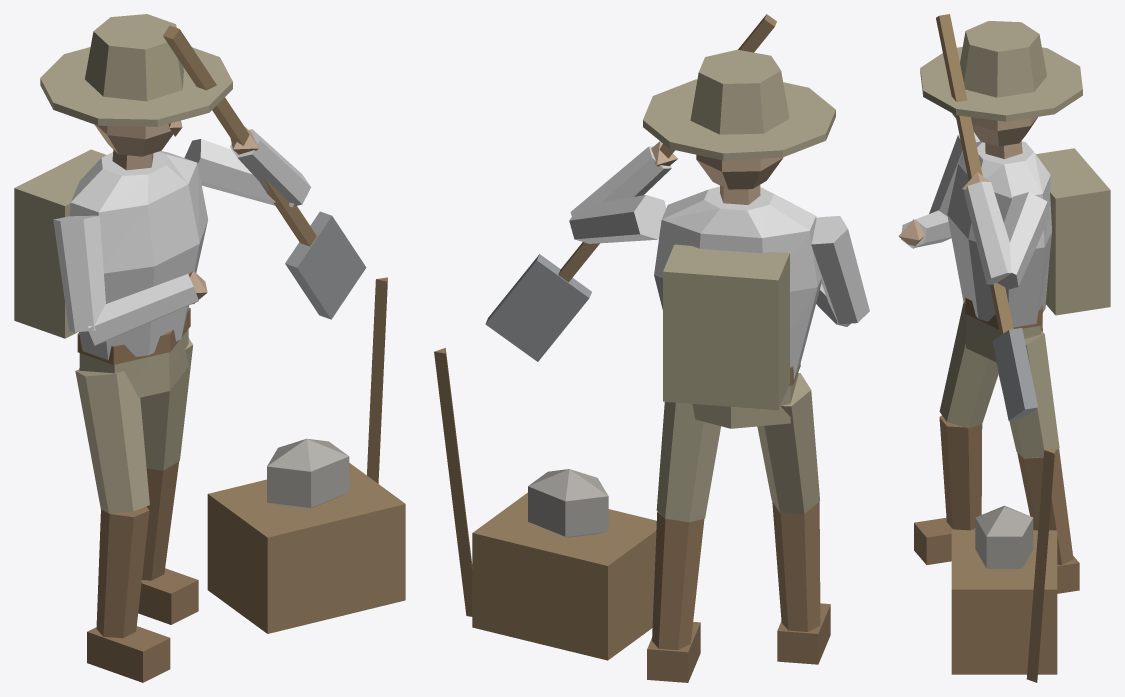
File: archaeologist.glb
3 views of the same model, side by side, from view 1: azimuth 30°, elevation 25°; view 2: azimuth 150°, elevation 25°; view 3: azimuth 270°, elevation 25° (orthographic). The views are drawn at different scales.
Visible parts, largest first — view 1: LOD0; view 2: LOD0; view 3: LOD0.
Part boxes in pixels (x1,y1,x2,y2): LOD0: [14, 14, 405, 682]; LOD0: [434, 14, 869, 682]; LOD0: [898, 14, 1110, 682].
Size of what is drawn, in the model's own units: 0.6577 by 1.05 by 0.3621.
